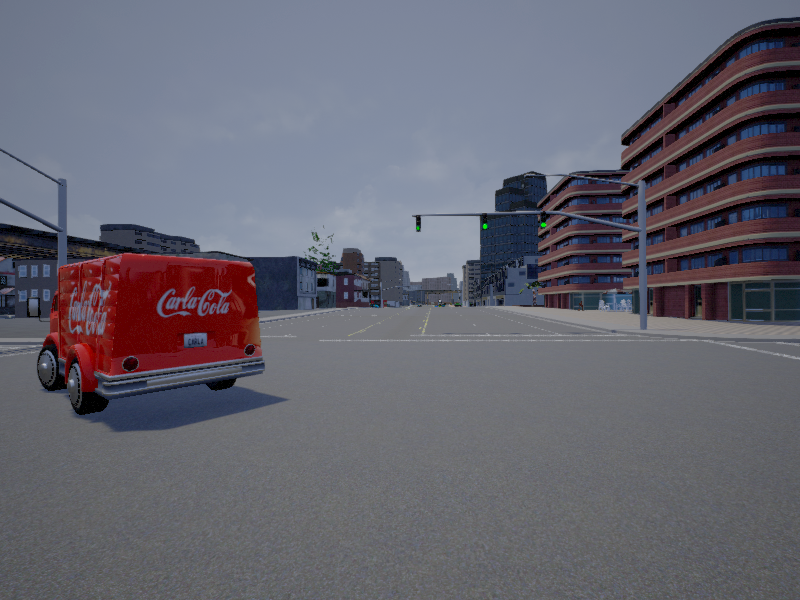Benign: (38, 254, 265, 413)
